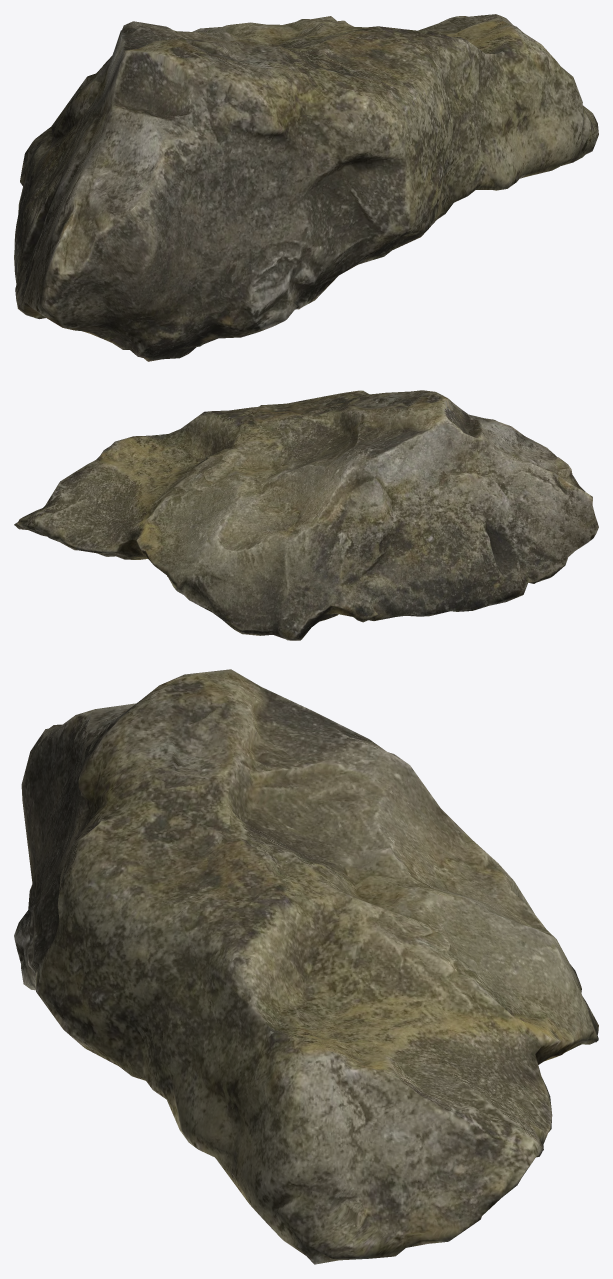
The model's file is rock_moss_02_r09.glb.
3 views of the same model, one above another, from view 1: azimuth 30°, elevation 25°; view 2: azimuth 150°, elevation 25°; view 3: azimuth 270°, elevation 25° (orthographic). The views are drawn at different scales.
Visible parts, largest first — view 1: rock_moss_02_r09_LOD0; view 2: rock_moss_02_r09_LOD0; view 3: rock_moss_02_r09_LOD0.
Part boxes in pixels (x1,y1,x2,y2): rock_moss_02_r09_LOD0: (14, 14, 598, 361); rock_moss_02_r09_LOD0: (14, 390, 598, 640); rock_moss_02_r09_LOD0: (14, 669, 598, 1264).
Size of what is drawn, in the model's own units: 1.63 by 0.6099 by 1.01.
1 material, 1 textured.
